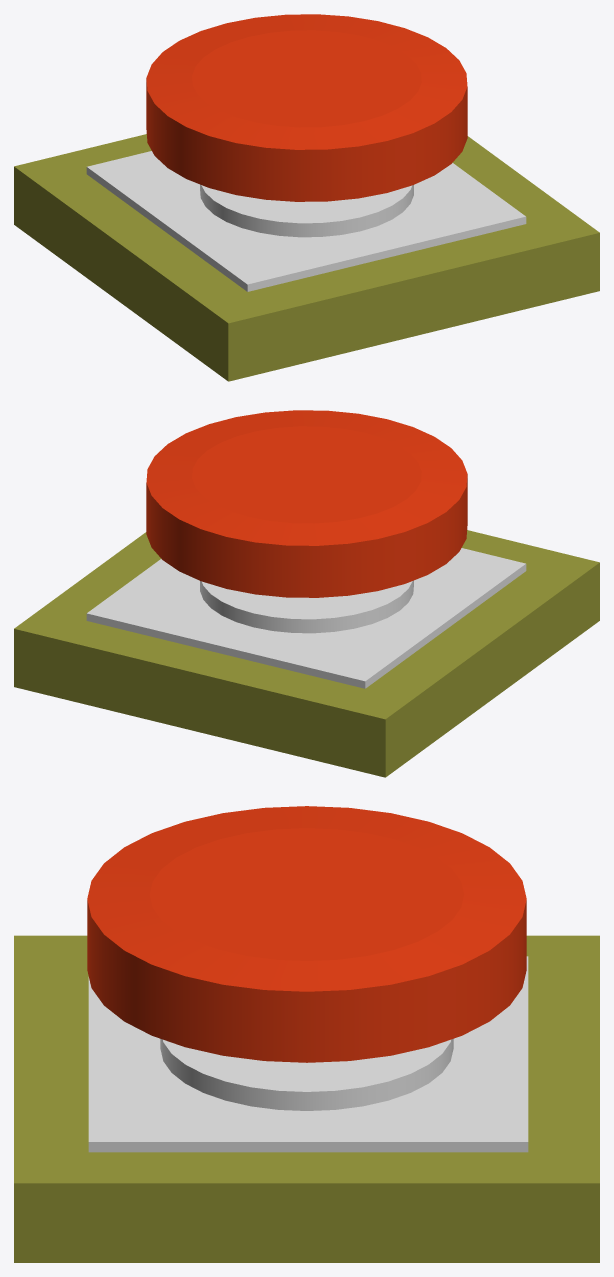
The model's file is giantredbutton.fbx.
3 renders of one model, top to bottom at view 1: azimuth 30°, elevation 25°; view 2: azimuth 150°, elevation 25°; view 3: azimuth 270°, elevation 25°, orthographic. The views are drawn at different scales.
Visible parts, largest first — view 1: Cube, Cylinder.002, Cube.001, Cylinder; view 2: Cube, Cylinder.002, Cube.001, Cylinder; view 3: Cube, Cylinder.002, Cube.001, Cylinder.
Boxes of the visible parts, bbox=[...] form: Cube: bbox=[14, 134, 599, 381]; Cylinder.002: bbox=[146, 14, 467, 201]; Cube.001: bbox=[86, 151, 526, 291]; Cylinder: bbox=[200, 184, 413, 237]; Cube: bbox=[14, 530, 599, 777]; Cylinder.002: bbox=[146, 410, 467, 597]; Cube.001: bbox=[86, 548, 526, 688]; Cylinder: bbox=[200, 580, 413, 633]; Cube: bbox=[14, 935, 599, 1262]; Cylinder.002: bbox=[87, 806, 526, 1062]; Cube.001: bbox=[88, 956, 528, 1152]; Cylinder: bbox=[160, 1039, 453, 1110].
Bounding box in the file's own units: 200 × 92.06 × 200.
